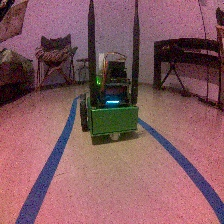rob: (78, 52, 139, 141)
